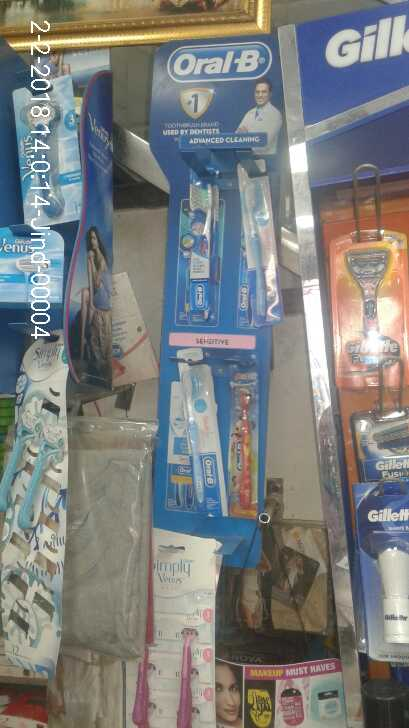beauty: (326, 236, 409, 389), (23, 93, 75, 238), (4, 228, 57, 300)
pharmacy: (178, 363, 227, 509), (239, 162, 275, 325), (180, 181, 219, 323), (234, 371, 264, 513)
